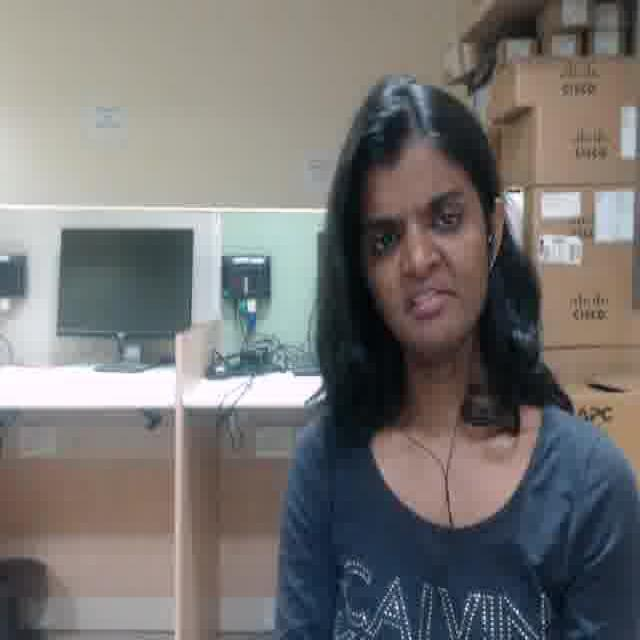Boredom: (356, 145, 485, 344)
